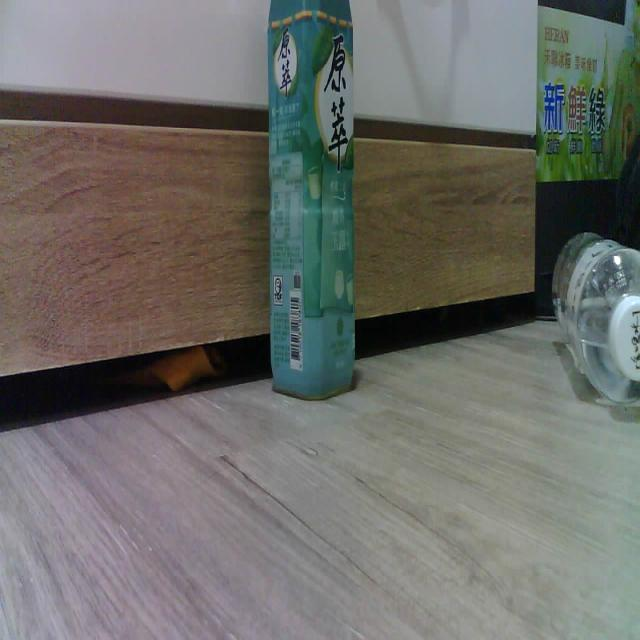bottle: (268, 0, 355, 398), (552, 233, 640, 404)
